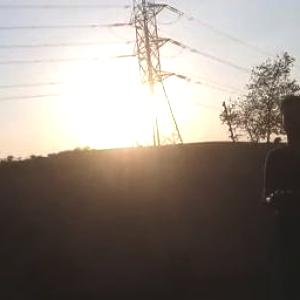follow: (255, 89, 300, 299)
